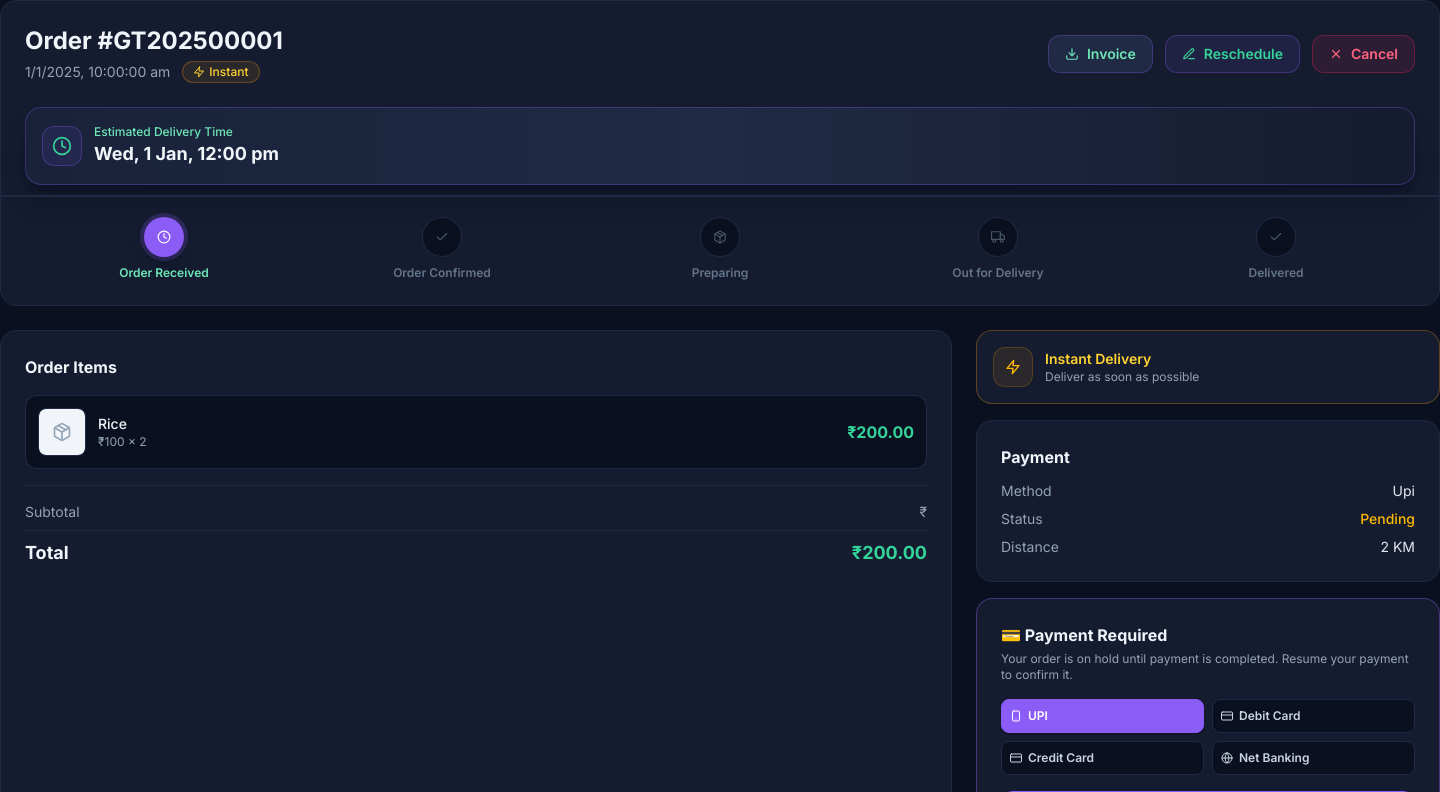
OrderDetail Online Payment Resume › resumes the aborted gateway payment: Pay Now → authorize → order reloaded as paid
The width and height of the screenshot is (1440, 792).
Expected: the heading "Order #GT202500001" is shown, [25, 25, 283, 57]
Click the button "UPI" at (1102, 716), box [1001, 699, 1204, 733]
(page scrolled)
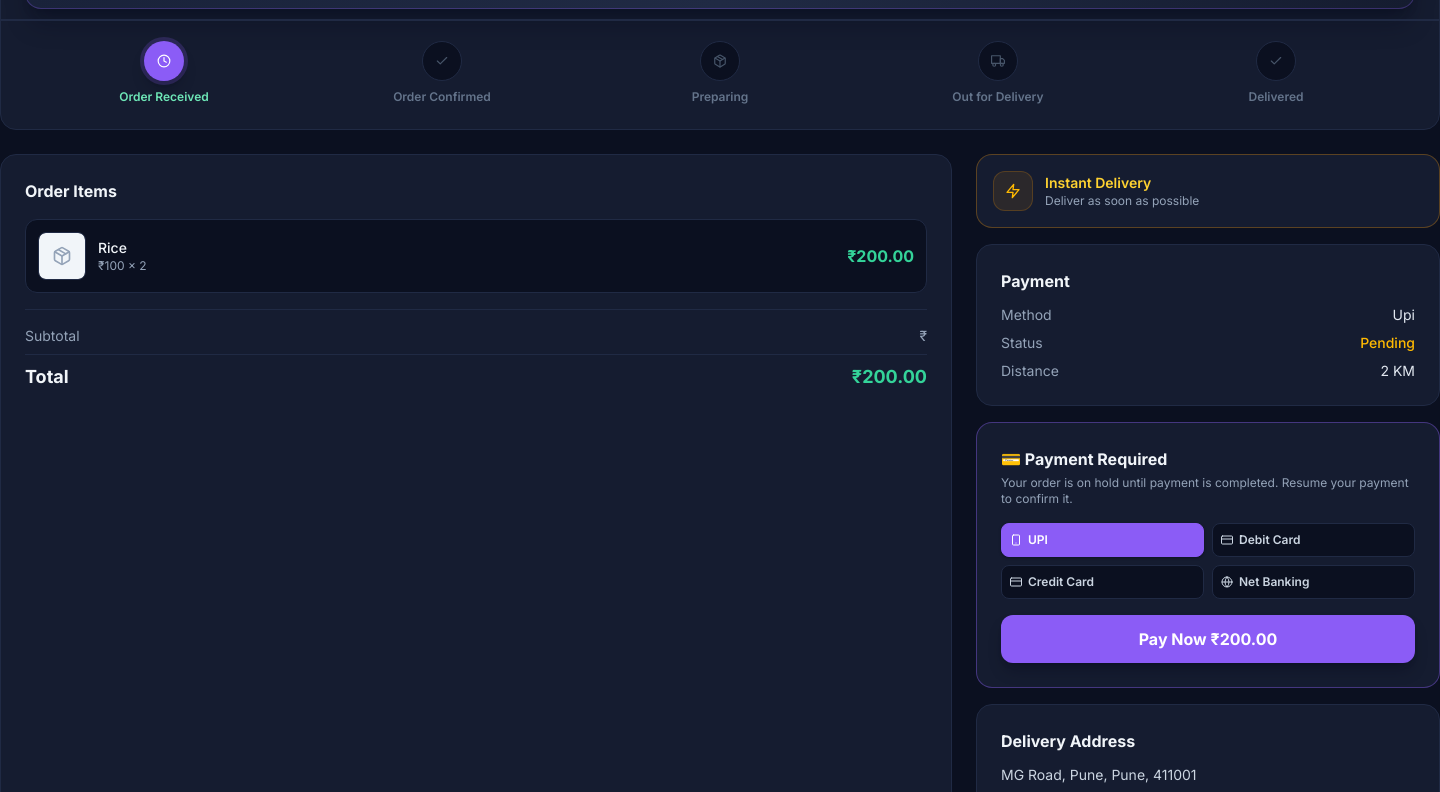
Click the button "Pay Now ₹200.00" at (1208, 639), box [1001, 615, 1415, 663]
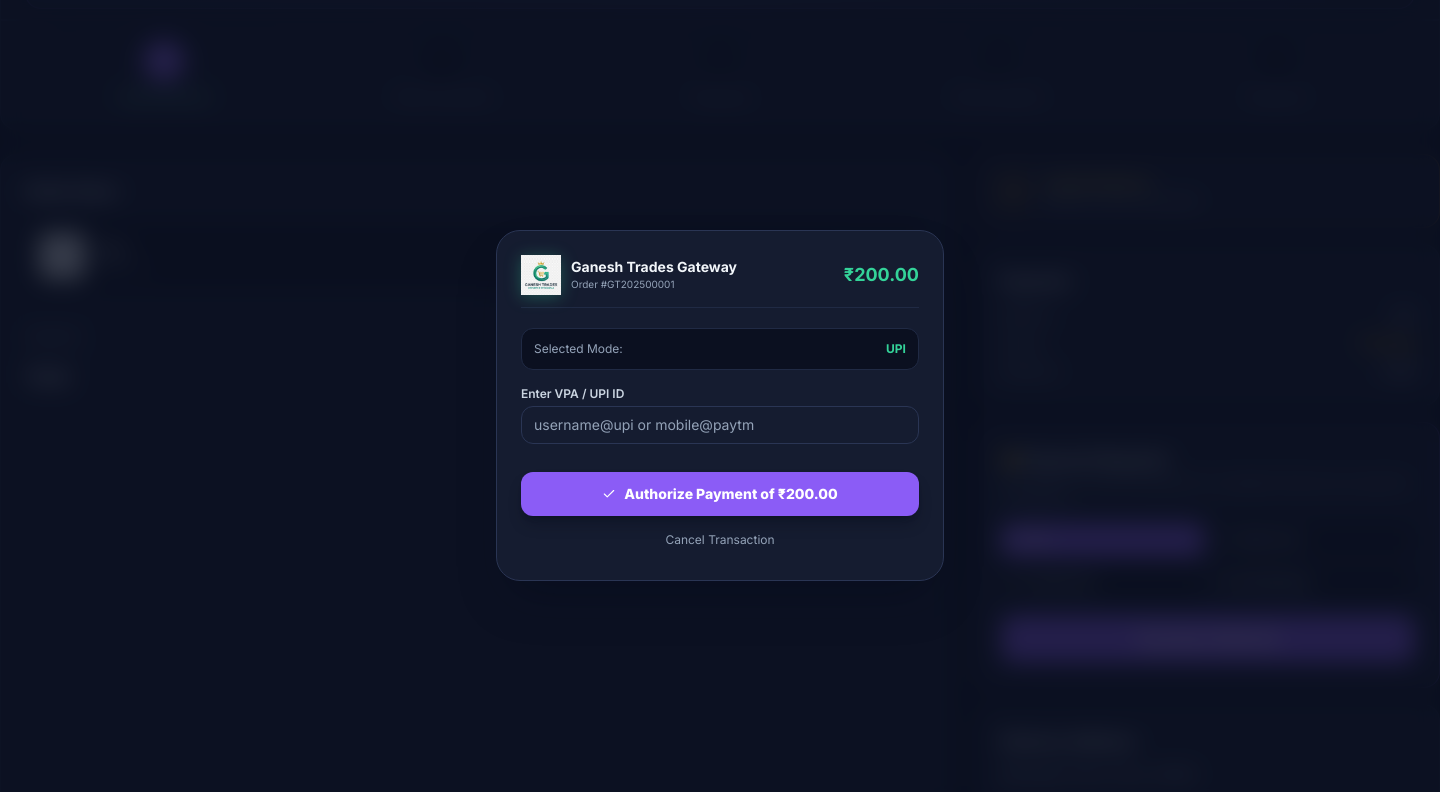
Expected: the heading "Ganesh Trades Gateway" is shown, [571, 257, 737, 277]
Click the button "Authorize Payment of ₹200.00" at (720, 494), box [521, 472, 919, 516]
(page scrolled)
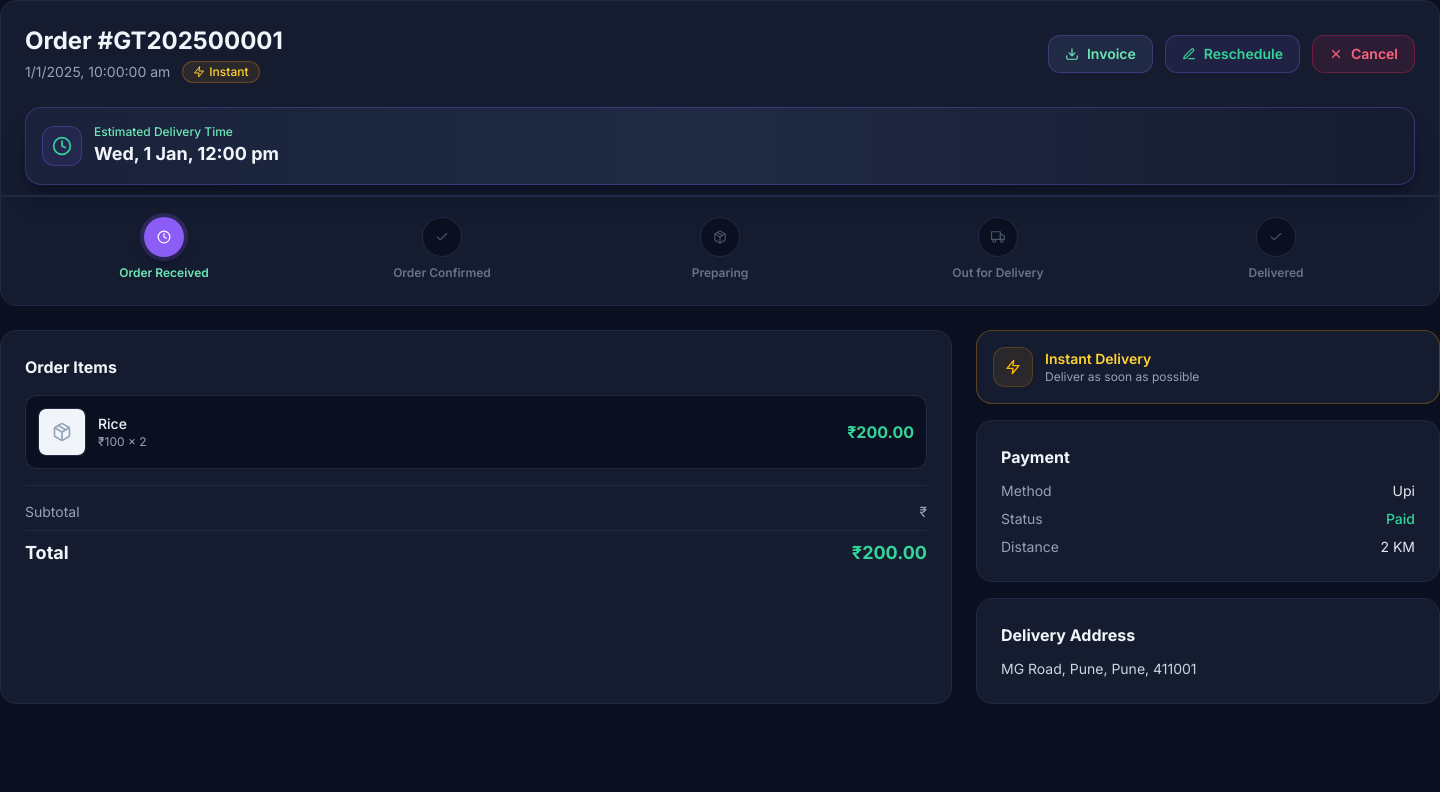
Expected: the heading "Ganesh Trades Gateway" is gone
